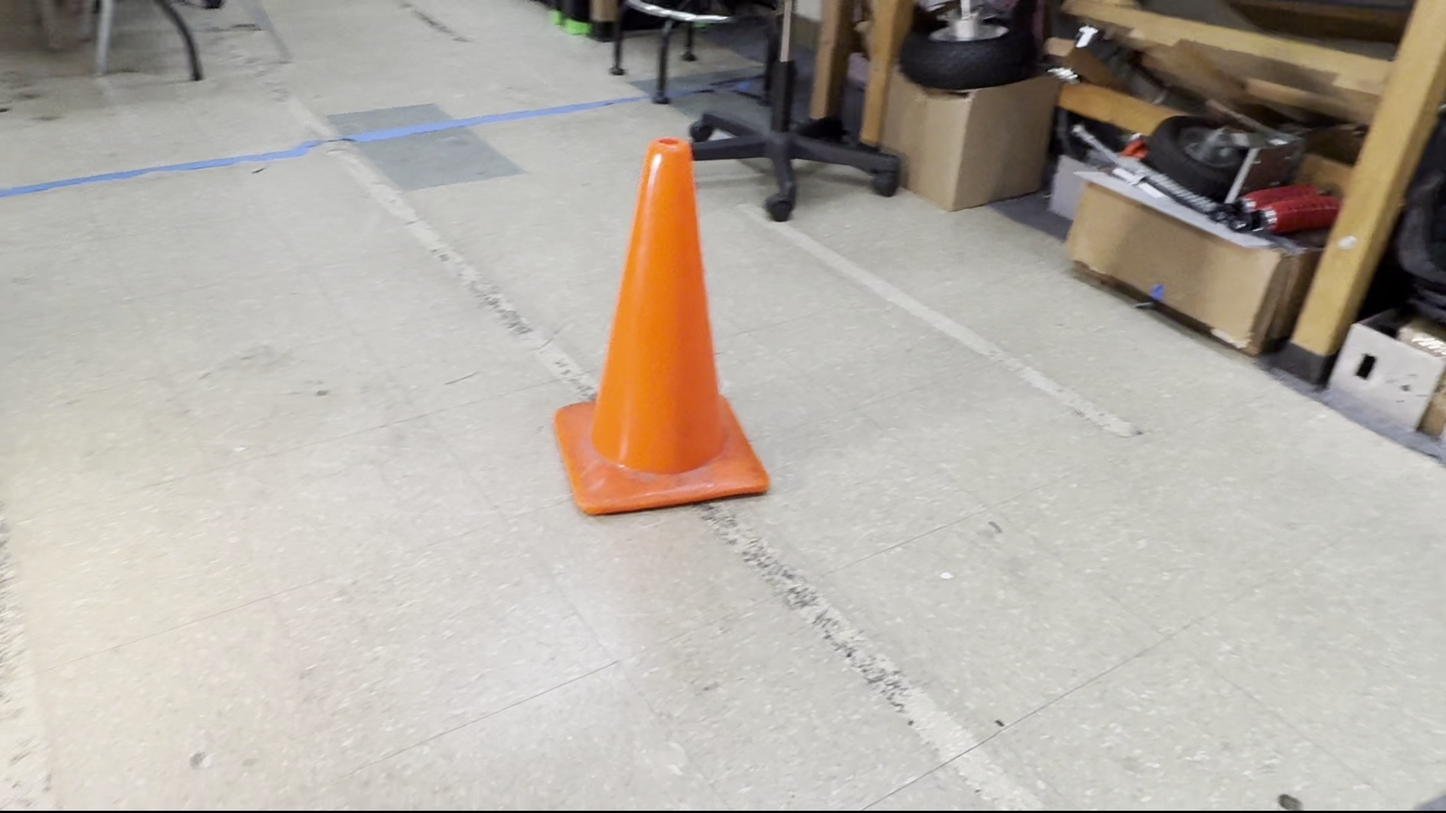traffic_cone: (552, 136, 771, 517)
